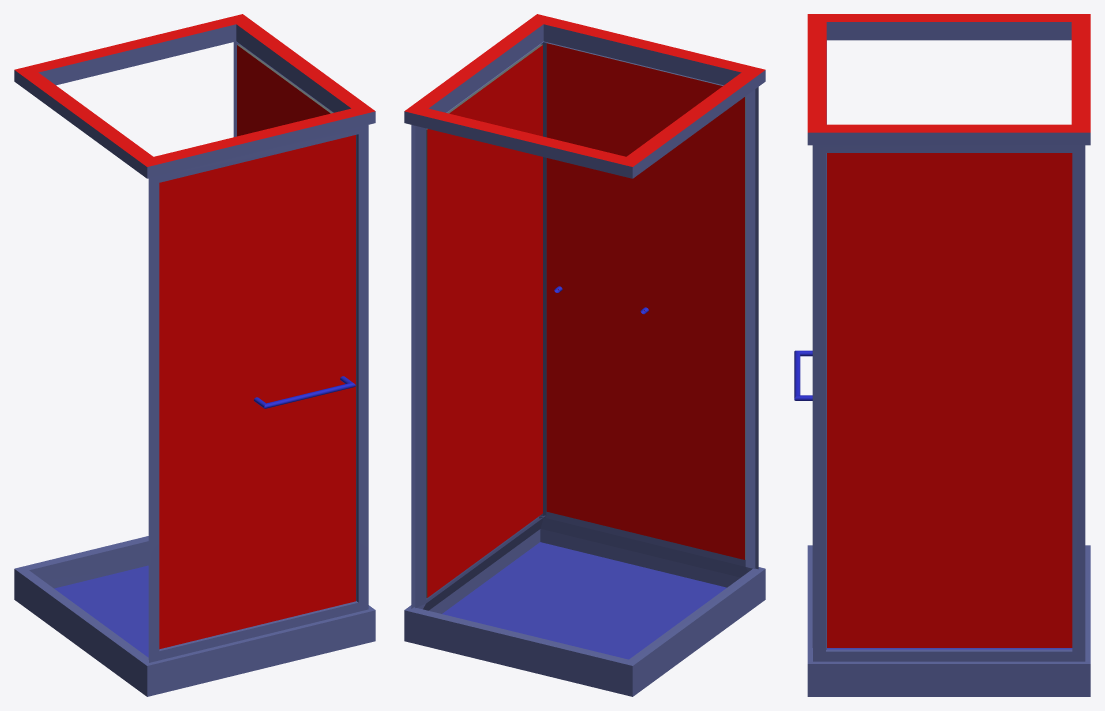
Rendered from bathroom.FBX.
The picture shows the model from 3 angles, left to right: view 1: azimuth 30°, elevation 25°; view 2: azimuth 150°, elevation 25°; view 3: azimuth 270°, elevation 25°; orthographic projection. The views are drawn at different scales.
Visible parts, largest first — view 1: bathroom; view 2: bathroom; view 3: bathroom.
Part boxes in pixels (x1,y1,x2,y2): bathroom: [14, 14, 375, 696]; bathroom: [404, 14, 765, 696]; bathroom: [794, 14, 1090, 696].
Size of the model in its own units: 105 by 233 by 111.
